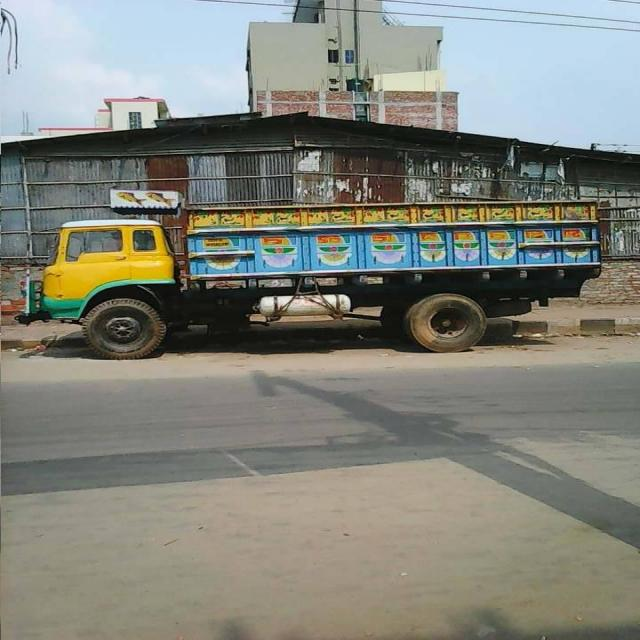truck: (22, 177, 608, 362)
